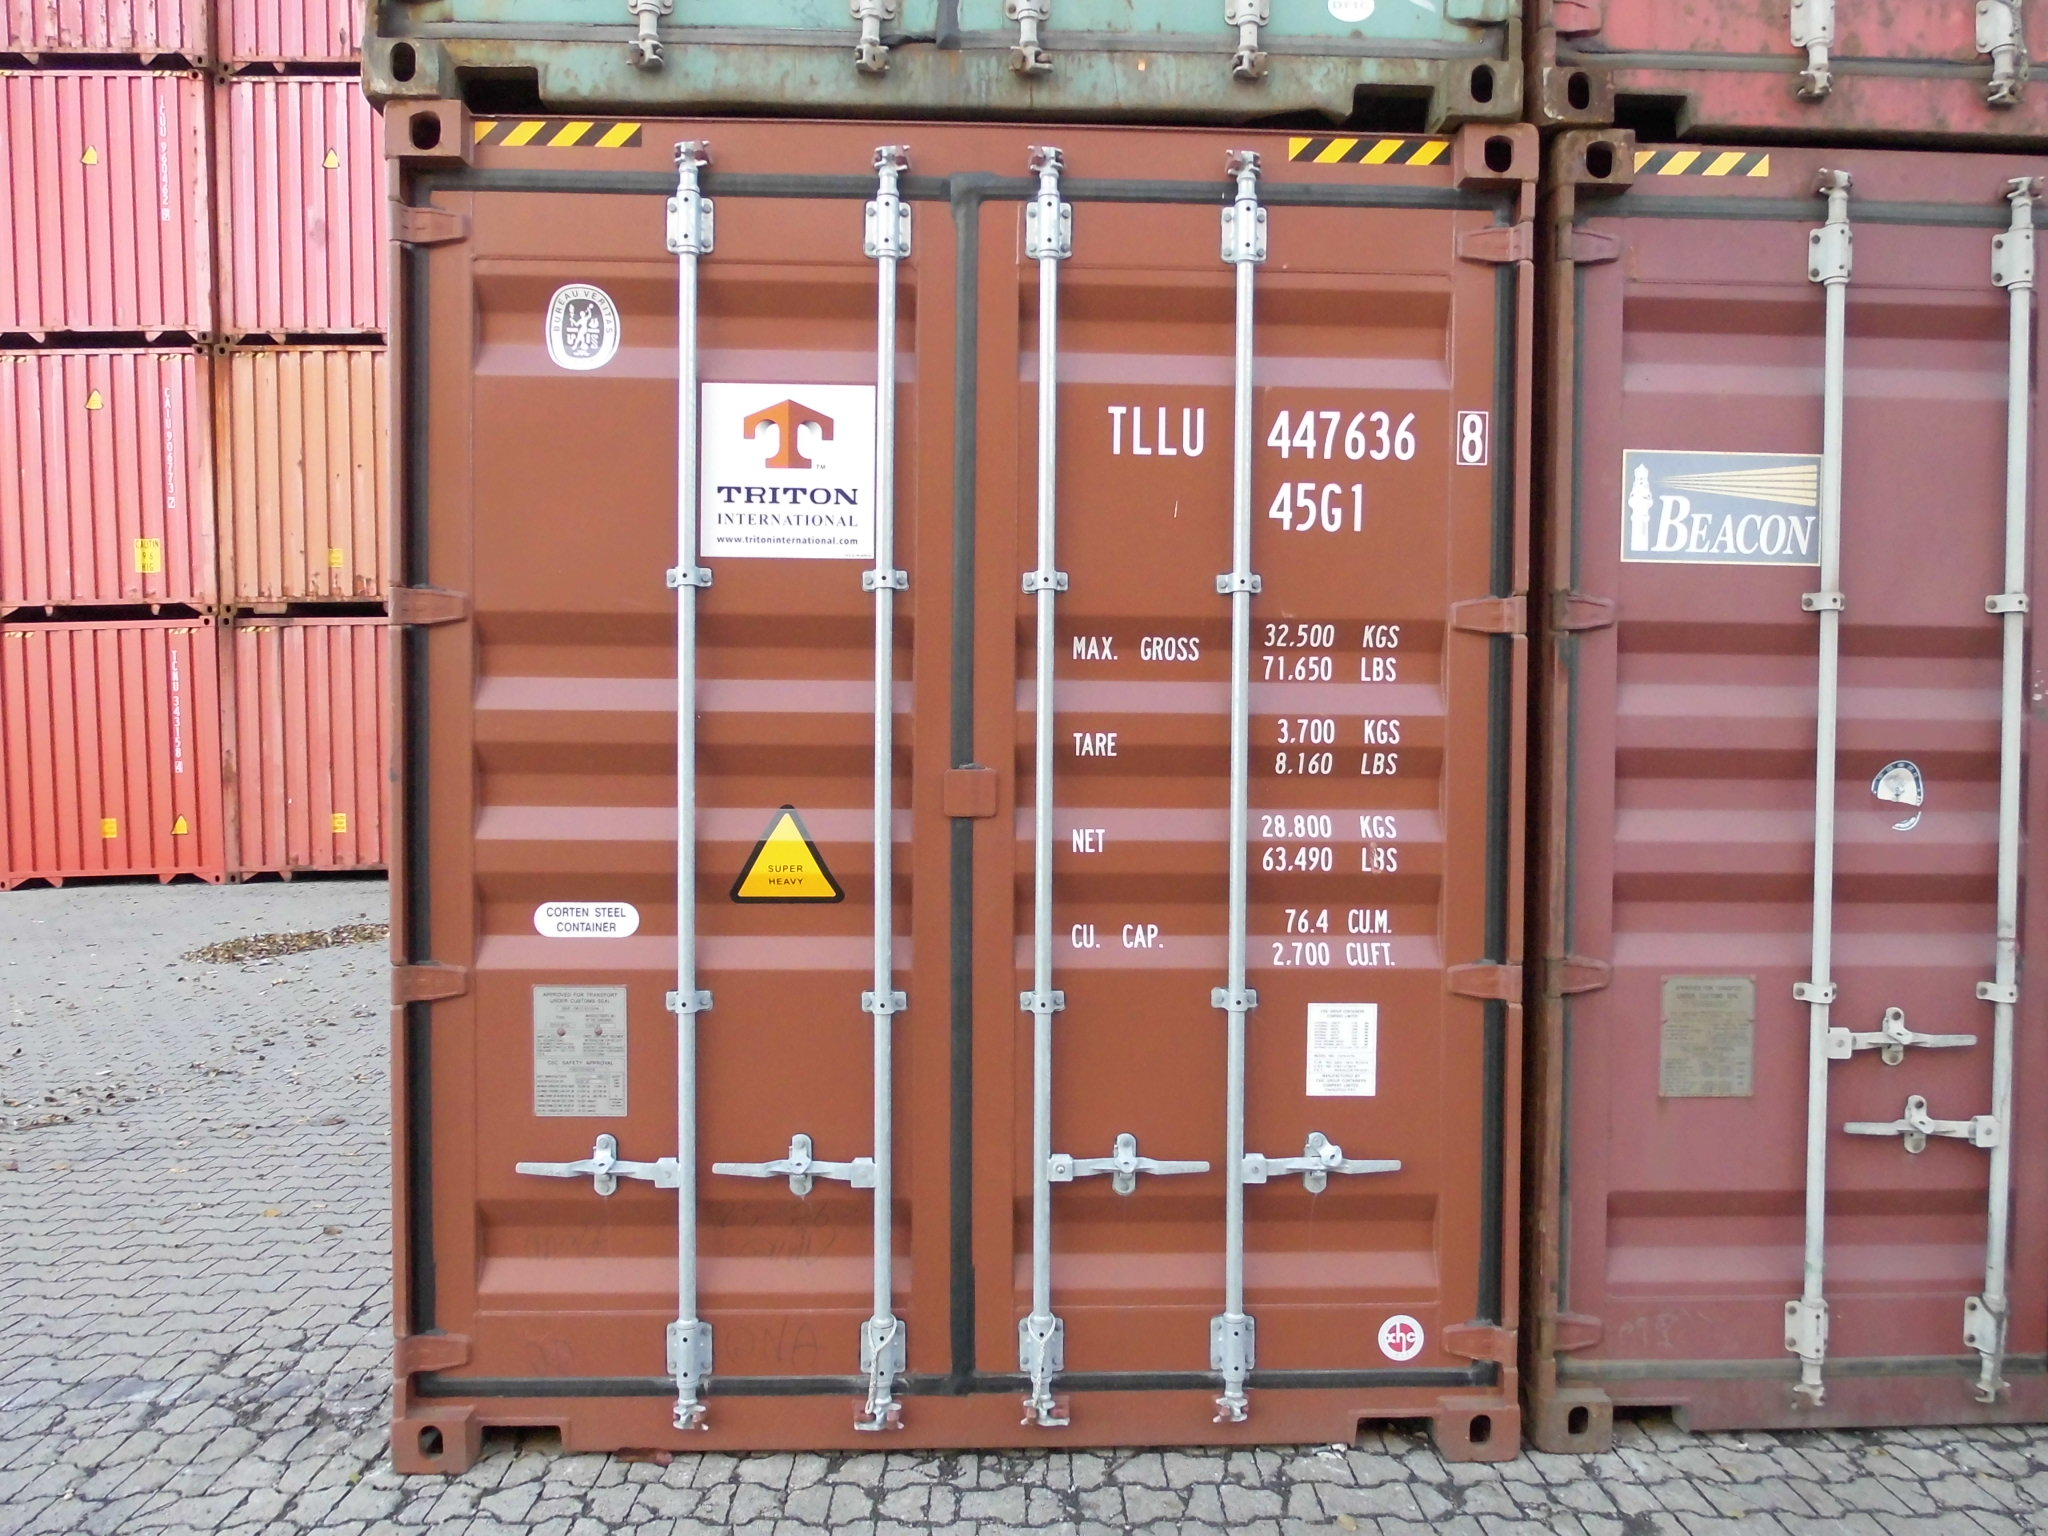container_door: (376, 86, 1542, 1486)
